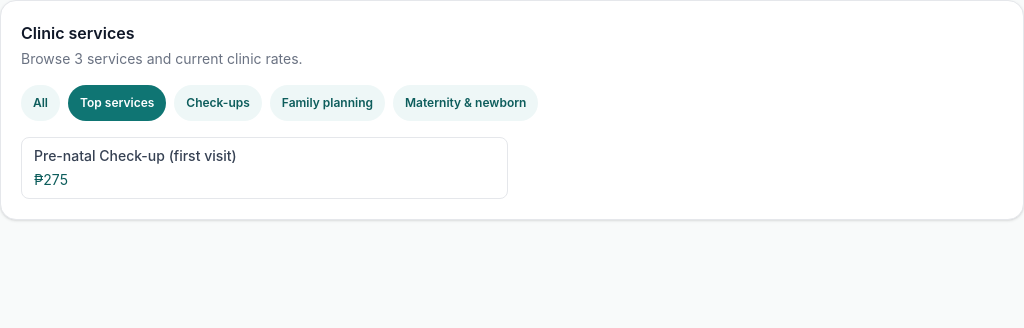
it: patient clinic service prices › uses saved API rates instead of the static clinic reference prices
The image size is (1024, 328).
Click the button "All". click: (40, 103)
box: [21, 85, 60, 121]
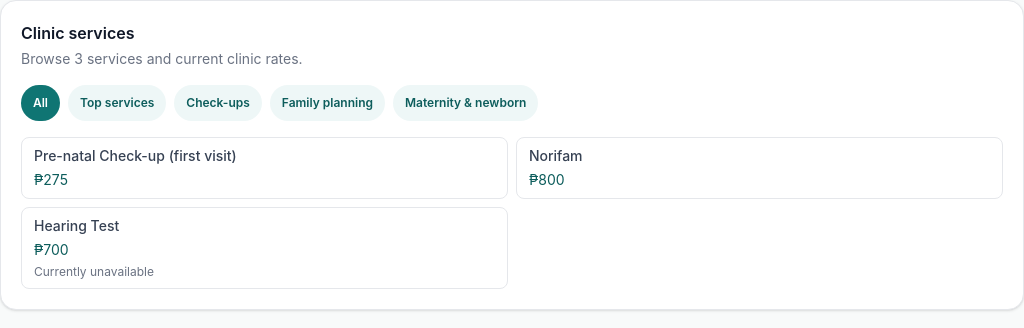
Now the text "₱800" is shown, box [529, 171, 565, 188]
Now the text "Hearing Test" is shown, box [34, 217, 119, 234]
Now the text "Currently unavailable" is shown, box [34, 264, 154, 279]
